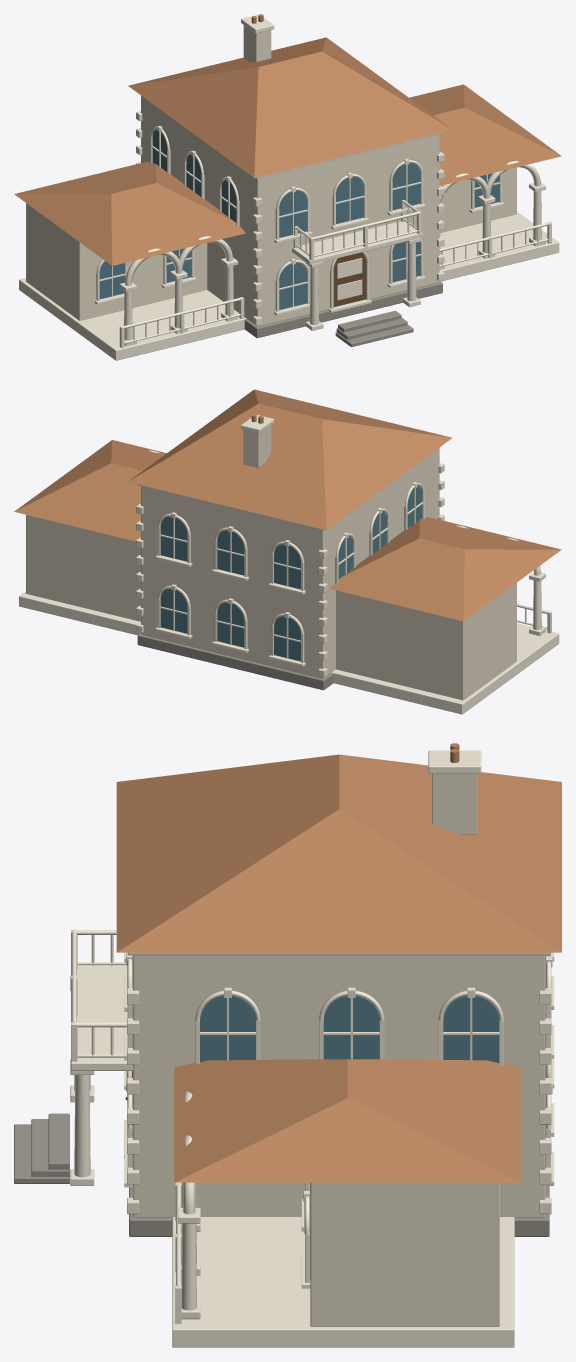
File: large_renaissance_villa.glb
3 renders of one model, top to bottom at view 1: azimuth 30°, elevation 25°; view 2: azimuth 150°, elevation 25°; view 3: azimuth 270°, elevation 25°, orthographic. The views are drawn at different scales.
Visible parts, largest first — view 1: Central terracotta villa roof closed hipped roof, Central two-story villa closed exterior walls, Low loggia hip roof closed hipped roof, Closed loggia rear wing closed exterior walls, Low loggia hip roof closed hipped roof.001, Loggia stone platform, Loggia stone platform.001, Closed loggia rear wing closed exterior walls.001, Central entrance balcony floor, Central two-story villa closed foundation, Ground central villa arch arched glazing, Upper central villa arch arched glazing.001 (+14 smaller); view 2: Central two-story villa closed exterior walls, Central terracotta villa roof closed hipped roof, Closed loggia rear wing closed exterior walls, Low loggia hip roof closed hipped roof, Closed loggia rear wing closed exterior walls.001, Low loggia hip roof closed hipped roof.001, Loggia stone platform, Central two-story villa closed foundation, Loggia stone platform.001, Villa rear tall arch arched glazing.002, Villa rear tall arch arched glazing.004, Villa rear tall arch arched glazing.005 (+8 smaller); view 3: Central terracotta villa roof closed hipped roof, Central two-story villa closed exterior walls, Low loggia hip roof closed hipped roof.001, Closed loggia rear wing closed exterior walls.001, Loggia stone platform.001, Central entrance balcony floor, Villa upper side arch arched glazing.002, Villa upper side arch arched glazing.001, Villa upper side arch arched glazing, Villa rear chimney brick shaft, Central two-story villa closed foundation, Central villa cornice complete cornice (+6 smaller).
Boxes of the visible parts, x1,y1,x2,y2 form: Central terracotta villa roof closed hipped roof: [128, 37, 452, 178]; Central two-story villa closed exterior walls: [141, 95, 439, 326]; Low loggia hip roof closed hipped roof: [14, 161, 245, 265]; Closed loggia rear wing closed exterior walls: [26, 203, 207, 320]; Low loggia hip roof closed hipped roof.001: [409, 84, 561, 185]; Loggia stone platform: [19, 278, 246, 360]; Loggia stone platform.001: [439, 211, 559, 281]; Closed loggia rear wing closed exterior walls.001: [440, 167, 516, 232]; Central entrance balcony floor: [292, 221, 422, 264]; Central two-story villa closed foundation: [244, 281, 442, 338]; Ground central villa arch arched glazing: [279, 262, 306, 309]; Upper central villa arch arched glazing.001: [336, 177, 363, 223]; Central two-story villa closed exterior walls: [141, 447, 439, 678]; Central terracotta villa roof closed hipped roof: [128, 389, 452, 530]; Closed loggia rear wing closed exterior walls: [336, 583, 516, 700]; Low loggia hip roof closed hipped roof: [330, 517, 561, 621]; Closed loggia rear wing closed exterior walls.001: [26, 515, 140, 621]; Low loggia hip roof closed hipped roof.001: [14, 440, 166, 541]; Loggia stone platform: [331, 623, 559, 714]; Central two-story villa closed foundation: [137, 633, 333, 690]; Loggia stone platform.001: [19, 591, 140, 635]; Villa rear tall arch arched glazing.002: [217, 602, 244, 647]; Villa rear tall arch arched glazing.004: [160, 588, 187, 633]; Villa rear tall arch arched glazing.005: [160, 516, 187, 561]; Central terracotta villa roof closed hipped roof: [116, 754, 561, 952]; Central two-story villa closed exterior walls: [133, 955, 545, 1217]; Low loggia hip roof closed hipped roof.001: [174, 1059, 520, 1182]; Closed loggia rear wing closed exterior walls.001: [310, 1182, 499, 1326]; Loggia stone platform.001: [172, 1217, 514, 1347]; Central entrance balcony floor: [71, 966, 132, 1070]; Villa upper side arch arched glazing.002: [443, 996, 499, 1062]; Villa upper side arch arched glazing.001: [323, 996, 379, 1059]; Villa upper side arch arched glazing: [200, 996, 255, 1062]; Villa rear chimney brick shaft: [432, 773, 477, 834]; Central two-story villa closed foundation: [129, 1186, 549, 1236]; Central villa cornice complete cornice: [127, 952, 550, 955].
Size of the model in its own units: 22.2 by 10.95 by 13.29.
